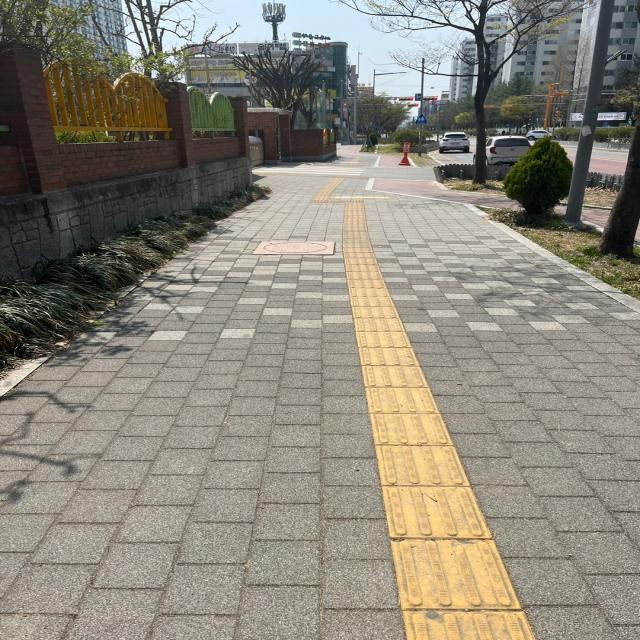Sewer Cover: (240, 232, 341, 273)
